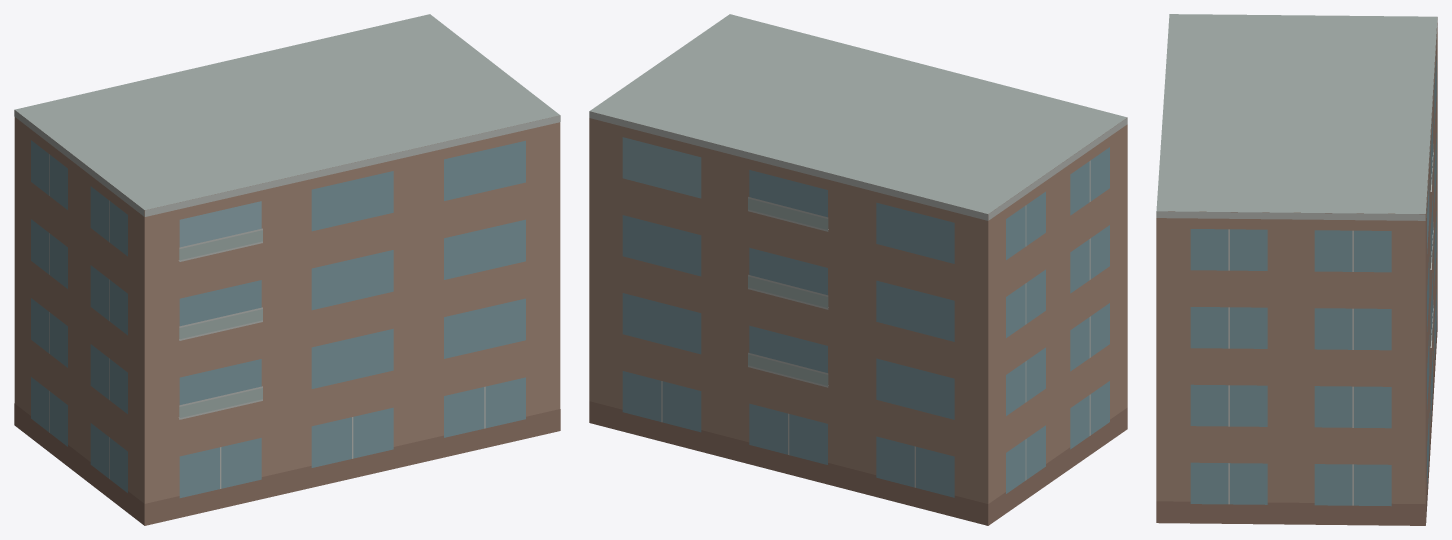
File: survey-upis-32836111.glb
3 views of the same model, side by side, from view 1: azimuth 30°, elevation 25°; view 2: azimuth 150°, elevation 25°; view 3: azimuth 270°, elevation 25° (orthographic).
Visible parts, largest first — view 1: survey-upis-32836111.tmp; view 2: survey-upis-32836111.tmp; view 3: survey-upis-32836111.tmp.
Boxes of the visible parts, x1,y1,x2,y2 form: survey-upis-32836111.tmp: [14, 14, 560, 525]; survey-upis-32836111.tmp: [589, 14, 1127, 525]; survey-upis-32836111.tmp: [1156, 14, 1437, 525].
Bounding box in the file's own units: 15.43 × 11.2 × 9.16.
